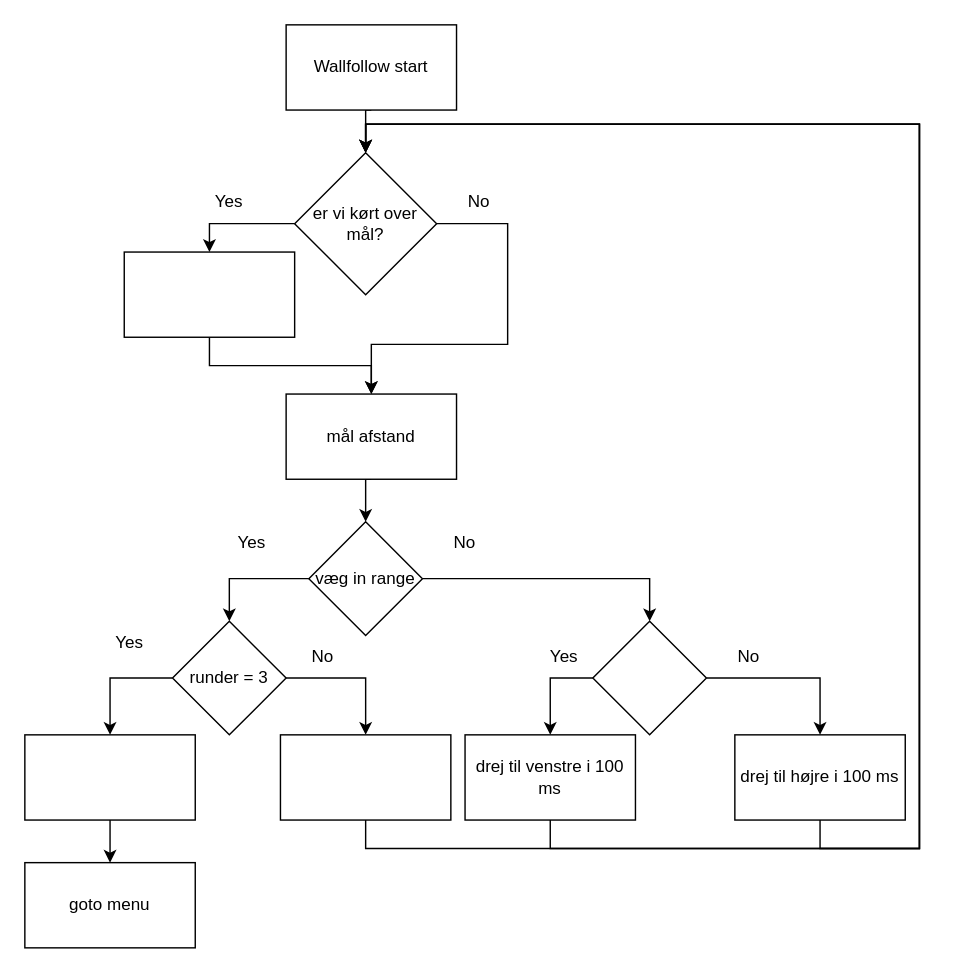
Some shapes in this 956 by 973 pixel diagram are drawn without their labels. Each missing label, with the centre of its shape:
"frem i 100 ms" goes at pixel 365 776.
"runder + 1" goes at pixel 209 294.
"stop" goes at pixel 109 776.
"væg too close?" goes at pixel 648 677.
